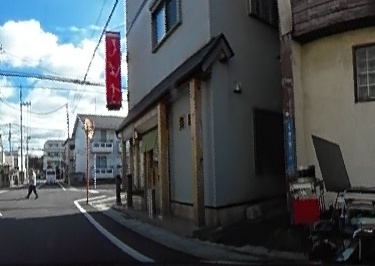person: (351, 64, 375, 262), (26, 164, 38, 197)
